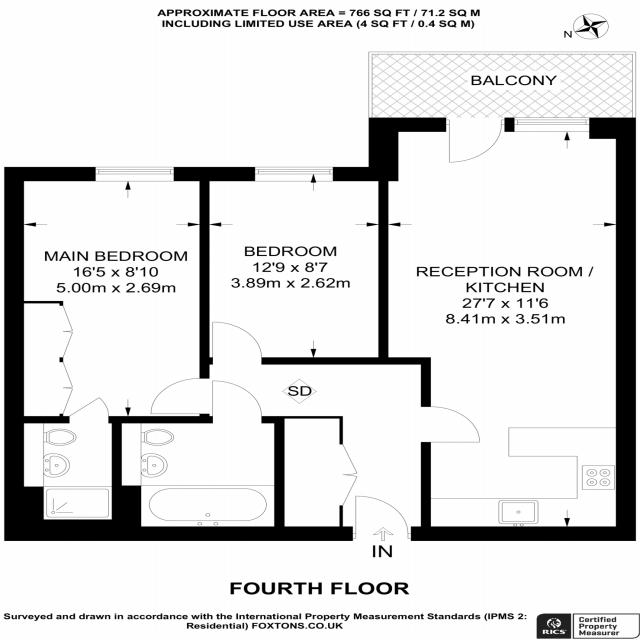DOOR: (350, 491, 419, 541), (445, 117, 509, 166), (206, 318, 268, 364), (421, 401, 485, 445), (146, 375, 211, 415), (211, 378, 266, 424), (63, 396, 112, 423)
ROOM: (370, 118, 638, 542), (201, 117, 445, 364), (3, 165, 212, 425)
WINDOW: (250, 164, 337, 184), (92, 165, 178, 184), (512, 116, 592, 134)
